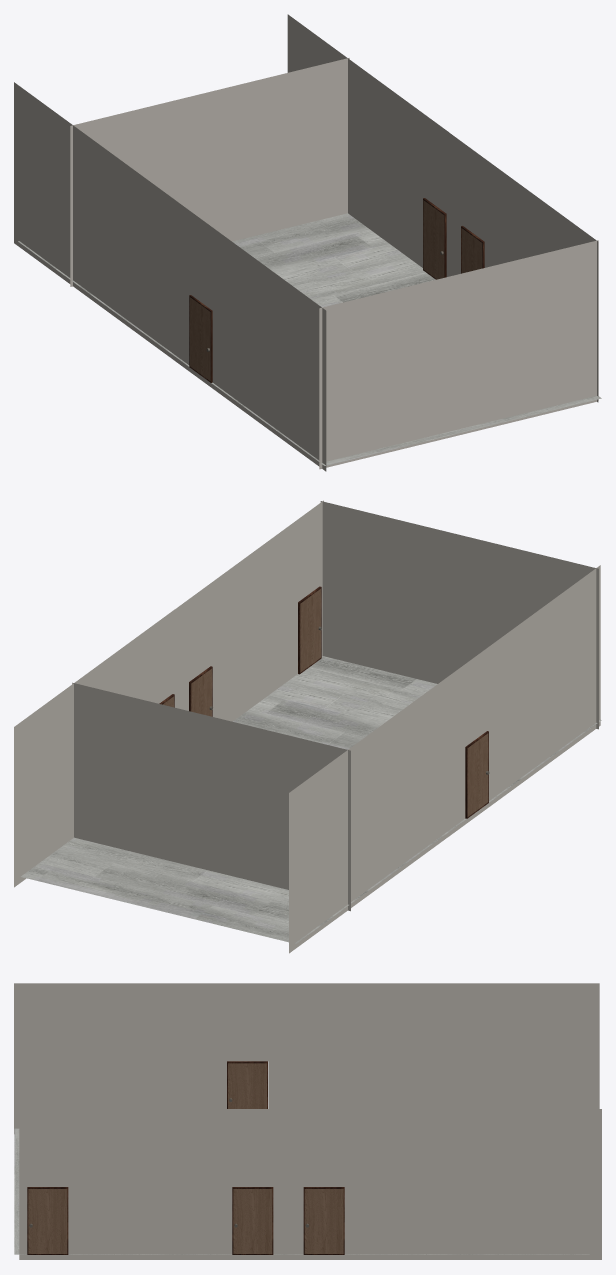
The model's file is FoyerBLOCKOUT.fbx.
3 renders of one model, top to bottom at view 1: azimuth 30°, elevation 25°; view 2: azimuth 150°, elevation 25°; view 3: azimuth 270°, elevation 25°, orthographic. The views are drawn at different scales.
Visible parts, largest first — view 1: pPlane18, pPlane9, pPlane21, polySurface17, pPlane20, pPlane19, polySurface13, pCube54 (×3), pPlane15; view 2: pPlane9, pPlane18, pPlane21, polySurface17, polySurface13, pPlane20, pPlane19, pPlane15, pCube54 (×3); view 3: pPlane20, pPlane21, polySurface13, polySurface17, pCube54 (×4), Frame (×3), pPlane15.
Part boxes in pixels (box(x1,y1,x2,y2)): pPlane18: box(319, 240, 598, 469); pPlane9: box(70, 58, 349, 286); pPlane21: box(14, 82, 174, 359); polySurface17: box(174, 199, 326, 471); pPlane20: box(287, 14, 446, 267); pPlane19: box(18, 213, 435, 353); polySurface13: box(446, 130, 598, 402); pCube54 (×3): box(190, 200, 482, 380); pPlane15: box(172, 353, 601, 465); pPlane9: box(72, 682, 350, 911); pPlane18: box(320, 501, 598, 729); pPlane21: box(289, 676, 448, 953); polySurface17: box(449, 565, 600, 836); polySurface13: box(172, 500, 323, 721); pPlane20: box(14, 611, 172, 887); pPlane19: box(21, 831, 448, 943); pPlane15: box(233, 656, 601, 831); pCube54 (×3): box(191, 589, 488, 816); pPlane20: box(299, 1109, 601, 1259); pPlane21: box(297, 983, 599, 1108); polySurface13: box(19, 1109, 299, 1259); polySurface17: box(14, 983, 297, 1133); pCube54 (×4): box(28, 1063, 343, 1253); Frame (×3): box(27, 1187, 344, 1254); pPlane15: box(14, 1128, 301, 1254).
Bounding box in the file's own units: 29.38 × 16.08 × 56.72.
5 materials, 3 textured.
